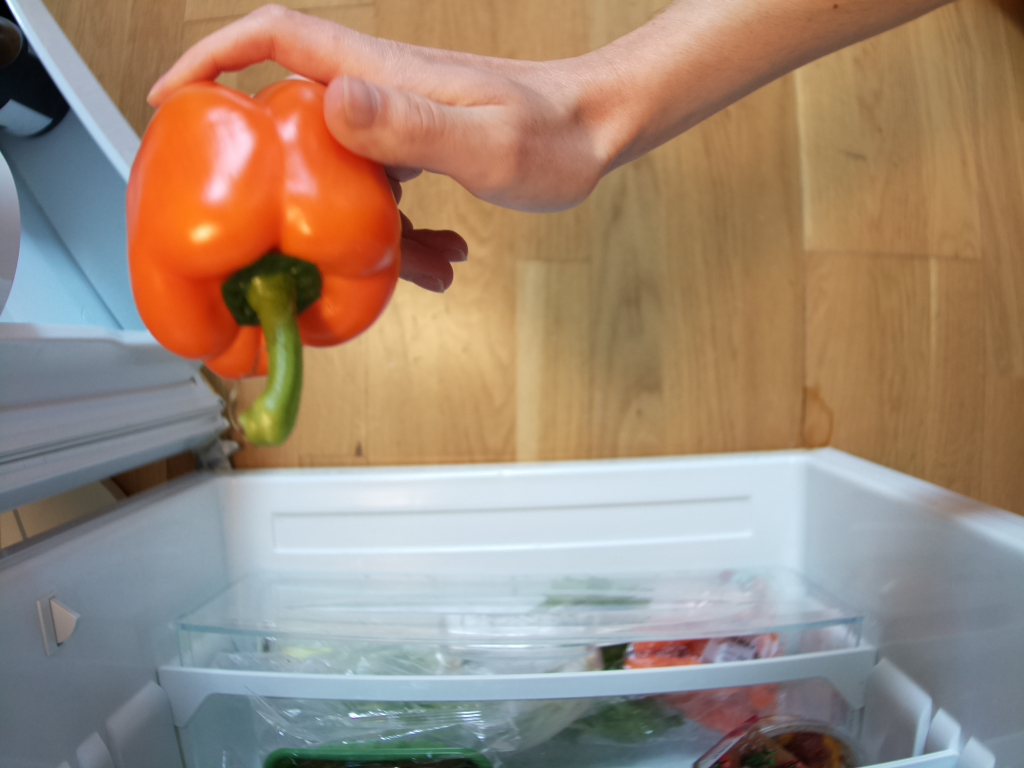pepper: (125, 78, 402, 444)
